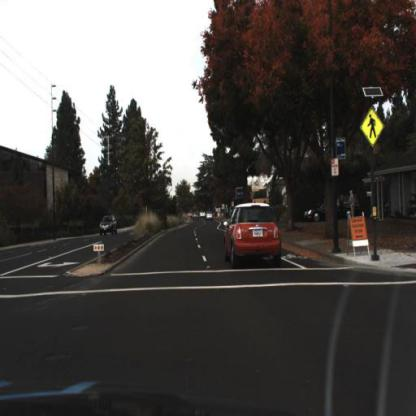car: (224, 204, 281, 264), (306, 192, 362, 225), (96, 213, 120, 238), (99, 212, 118, 237)
pedestrian: (347, 189, 356, 220), (338, 193, 346, 218), (349, 190, 356, 217), (339, 194, 346, 219)
